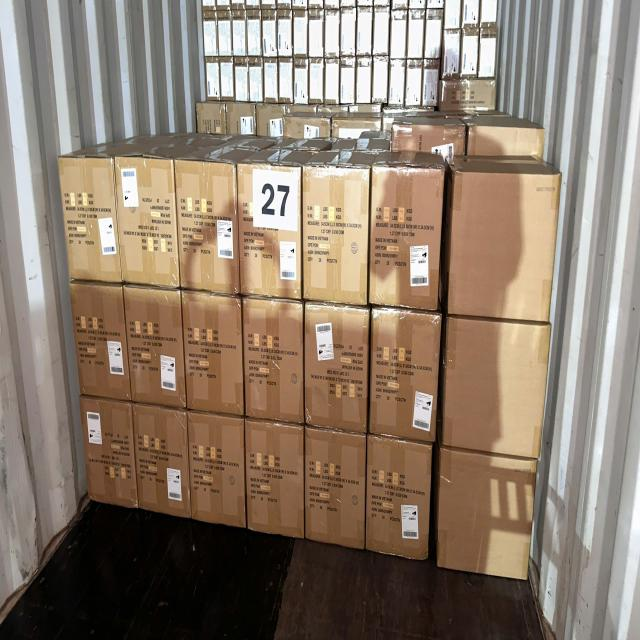Carton: (451, 169, 563, 322), (442, 319, 550, 460), (436, 449, 538, 583), (371, 168, 440, 312), (174, 160, 242, 297), (238, 164, 304, 303), (302, 167, 369, 303), (113, 157, 181, 290), (371, 306, 436, 442), (366, 436, 432, 568), (57, 156, 121, 286), (122, 285, 188, 411), (242, 296, 306, 424), (180, 292, 244, 418), (304, 303, 366, 431), (305, 425, 365, 554), (68, 283, 131, 402), (245, 418, 305, 540), (186, 408, 246, 528), (132, 402, 192, 521), (80, 399, 138, 510)
